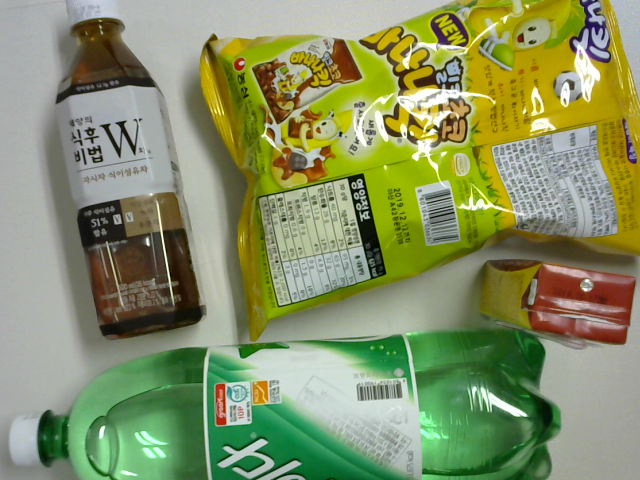Banana_Kick: (197, 4, 637, 332)
Chilseong_Cider_1.5L: (3, 330, 557, 480)
Choco_E_Mong: (477, 262, 631, 352)
Post-meal_recipe_W_tea_500ml: (51, 2, 203, 342)
